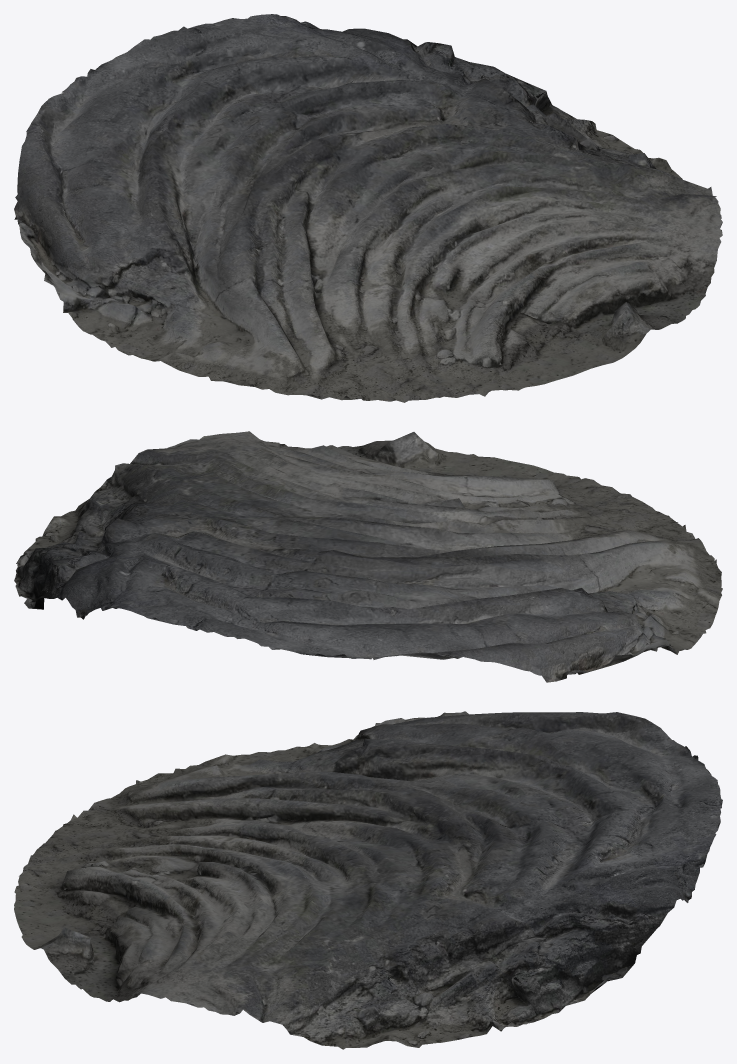
File: rock-ropy-lobe-mangere.glb
The picture shows the model from 3 angles, top to bottom: view 1: azimuth 30°, elevation 25°; view 2: azimuth 150°, elevation 25°; view 3: azimuth 270°, elevation 25°; orthographic projection.
Visible parts, largest first — view 1: rock-ropy-lobe-mangere_LOD0; view 2: rock-ropy-lobe-mangere_LOD0; view 3: rock-ropy-lobe-mangere_LOD0.
Boxes of the visible parts, bbox=[...] form: rock-ropy-lobe-mangere_LOD0: bbox=[14, 14, 722, 402]; rock-ropy-lobe-mangere_LOD0: bbox=[14, 431, 722, 682]; rock-ropy-lobe-mangere_LOD0: bbox=[14, 711, 722, 1049].
Size of what is drawn, in the model's own units: 5 by 0.8032 by 4.99.
1 material, 1 textured.
